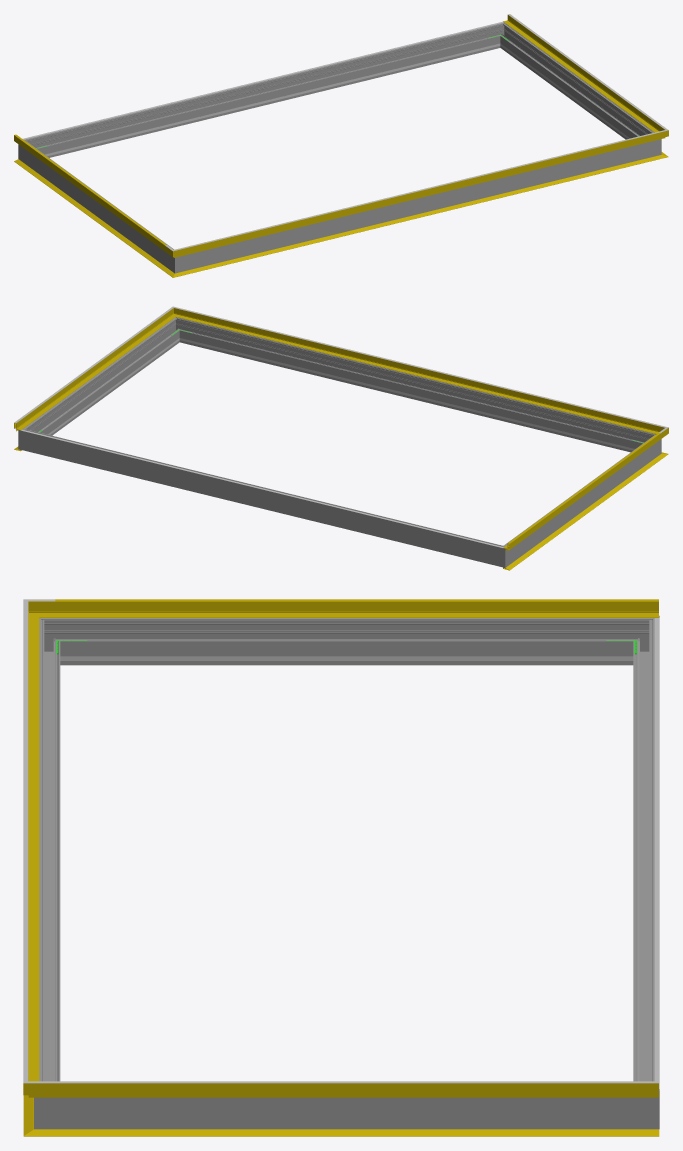
The picture shows the model from 3 angles, top to bottom: view 1: azimuth 30°, elevation 25°; view 2: azimuth 150°, elevation 25°; view 3: azimuth 270°, elevation 25°; orthographic projection. The views are drawn at different scales.
Visible parts, largest first — view 1: 3DGeom-276, 3DGeom-298, 3DGeom-297, 3DGeom-56, 3DGeom-268, 3DGeom-28, 3DGeom-58, 3DGeom-244, 3DGeom-50, 3DGeom-38, 3DGeom-220, 3DGeom-66 (+2 smaller); view 2: 3DGeom-298, 3DGeom-276, 3DGeom-56, 3DGeom-297, 3DGeom-268, 3DGeom-58, 3DGeom-239, 3DGeom-50, 3DGeom-38, 3DGeom-220, 3DGeom-66, 3DGeom-278 (+2 smaller); view 3: 3DGeom-268, 3DGeom-297, 3DGeom-50, 3DGeom-298, 3DGeom-276, 3DGeom-58, 3DGeom-56, 3DGeom-30, 3DGeom-220, 3DGeom-66, 3DGeom-232, 3DGeom-64 (+5 smaller).
Part boxes in pixels (x1,y1,x2,y2): 3DGeom-276: (33,25,497,157); 3DGeom-298: (188,142,647,269); 3DGeom-297: (501,27,650,139); 3DGeom-56: (185,134,655,254); 3DGeom-268: (26,144,170,267); 3DGeom-28: (184,157,654,274); 3DGeom-58: (503,15,658,131); 3DGeom-244: (50,46,486,155); 3DGeom-50: (14,135,164,251); 3DGeom-38: (14,159,168,271); 3DGeom-220: (23,21,503,139); 3DGeom-66: (186,133,654,247); 3DGeom-298: (182,320,646,452); 3DGeom-276: (32,431,493,564); 3DGeom-56: (183,310,653,432); 3DGeom-297: (28,322,178,435); 3DGeom-268: (509,439,653,561); 3DGeom-58: (14,313,171,431); 3DGeom-239: (193,341,630,449); 3DGeom-50: (503,433,660,550); 3DGeom-38: (503,457,660,570); 3DGeom-220: (21,429,503,547); 3DGeom-66: (186,310,654,424); 3DGeom-278: (491,542,513,567); 3DGeom-268: (65,618,627,665); 3DGeom-297: (65,1097,627,1129); 3DGeom-50: (55,601,658,617); 3DGeom-298: (39,629,60,1081); 3DGeom-276: (633,629,654,1081); 3DGeom-58: (55,1083,658,1097); 3DGeom-56: (28,613,39,1081); 3DGeom-30: (55,1129,659,1136); 3DGeom-220: (654,617,659,1088); 3DGeom-66: (23,612,28,1069); 3DGeom-232: (91,656,602,660); 3DGeom-64: (55,1081,658,1083).
Size of the model in its own units: 5.49 by 0.2831 by 3.05.
